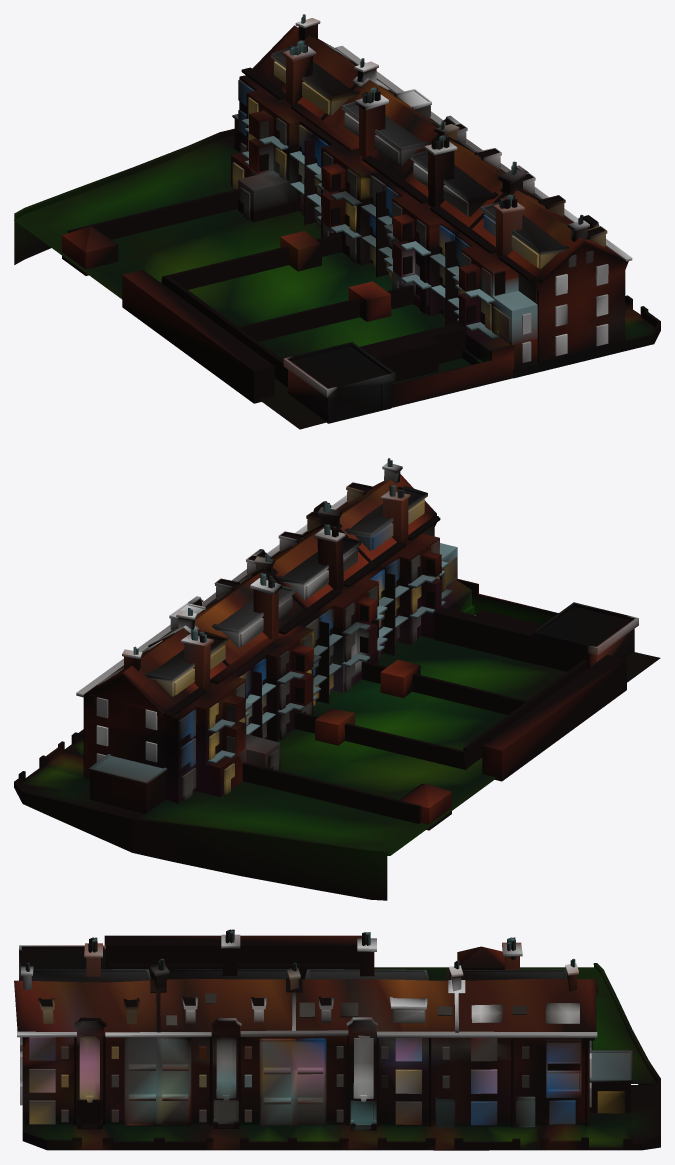
File: GeversDeynootweg_Appartments_109_121.fbx
The picture shows the model from 3 angles, top to bottom: view 1: azimuth 30°, elevation 25°; view 2: azimuth 150°, elevation 25°; view 3: azimuth 270°, elevation 25°; orthographic projection. The views are drawn at different scales.
Parts seen in each view (by area): view 1: GeverDeynootweg_Appartments_109_121_Mesh; view 2: GeverDeynootweg_Appartments_109_121_Mesh; view 3: GeverDeynootweg_Appartments_109_121_Mesh.
Boxes of the visible parts, <box> form: GeverDeynootweg_Appartments_109_121_Mesh: <box>14,14,660,429</box>; GeverDeynootweg_Appartments_109_121_Mesh: <box>14,458,660,900</box>; GeverDeynootweg_Appartments_109_121_Mesh: <box>14,929,660,1150</box>.
Bounding box in the file's own units: 4018 × 2055 × 5951.
